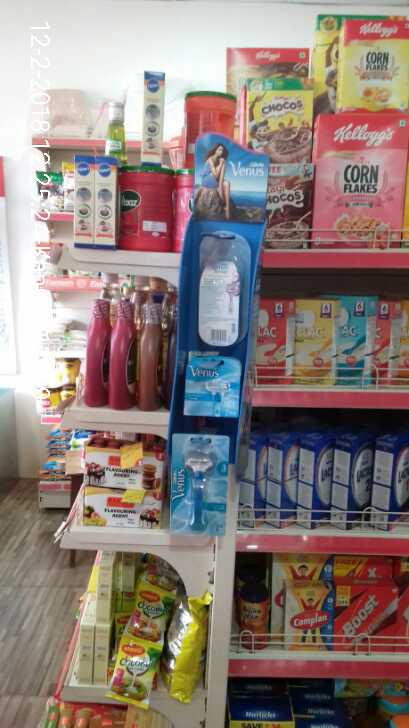venus: (166, 433, 231, 542), (187, 347, 243, 421)
